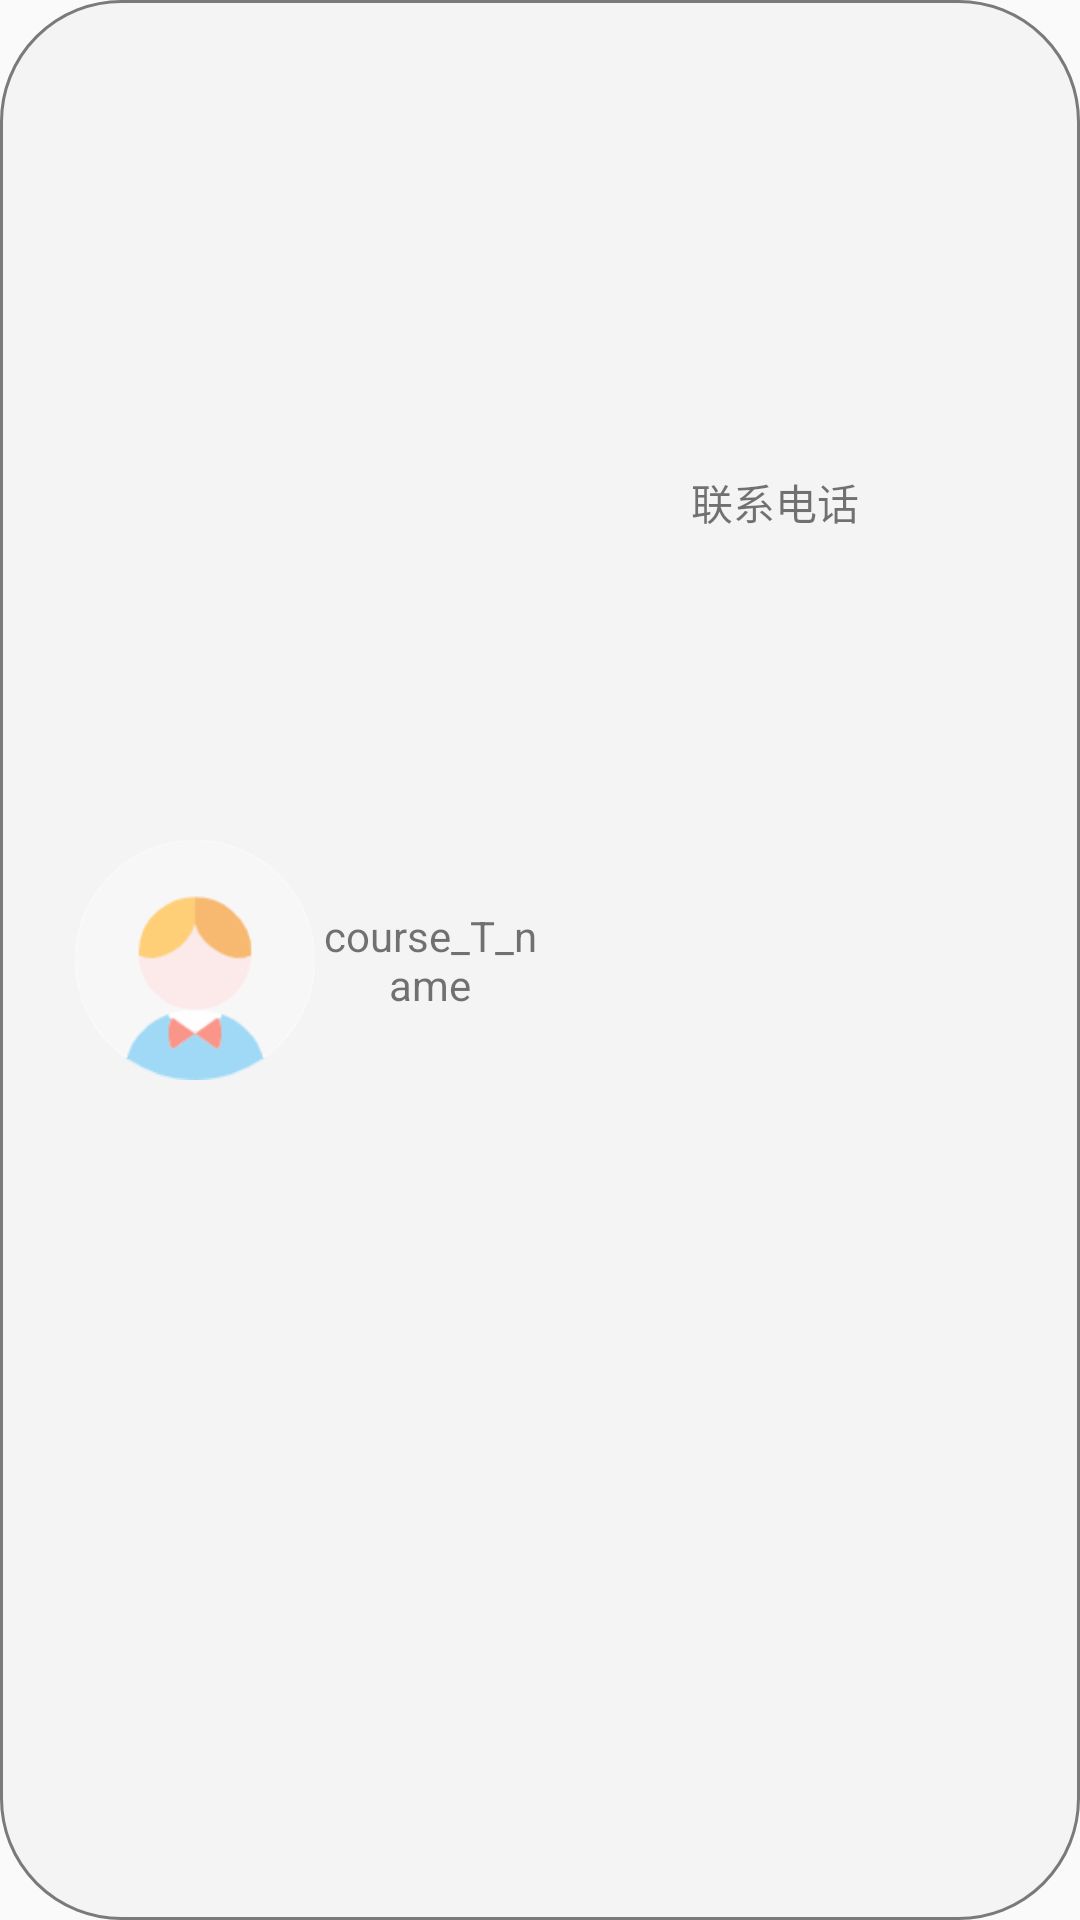

Where icons sit on this 1080w x 1920h app screen, as box(x1, y1, x2, y2):
headportrait: box(126, 896, 264, 1080)
